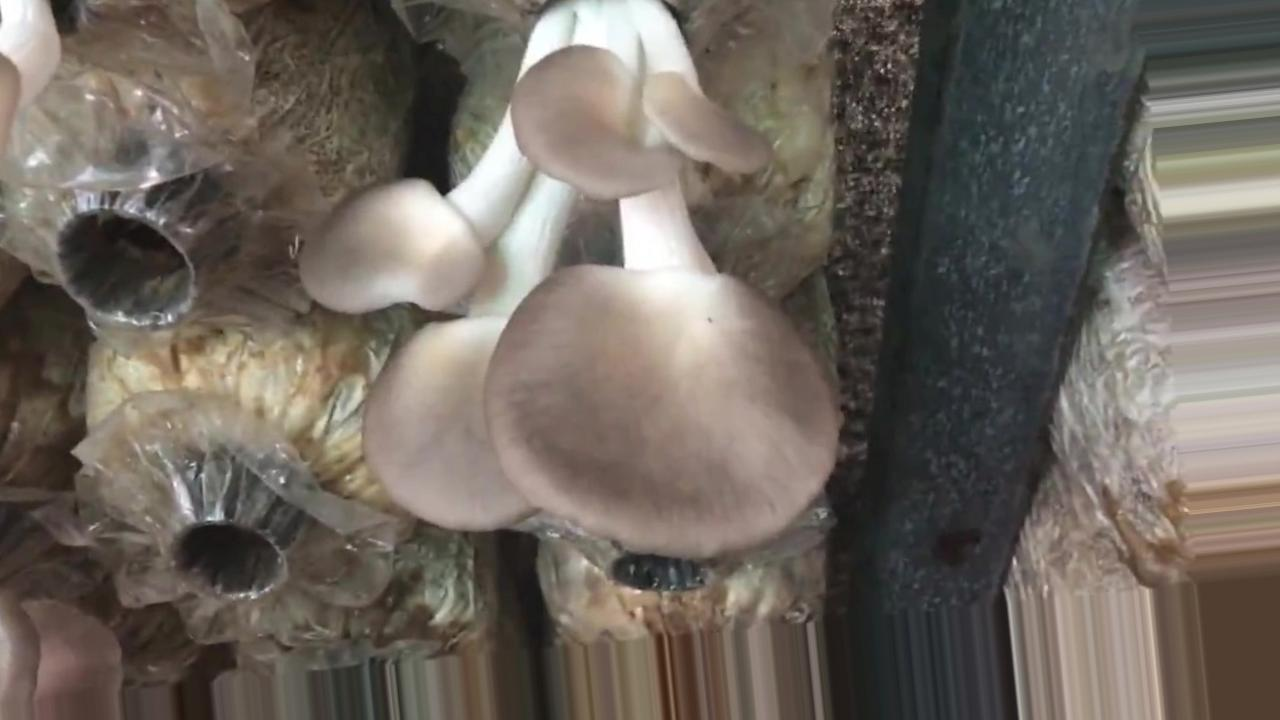nam: (299, 1, 841, 560)
